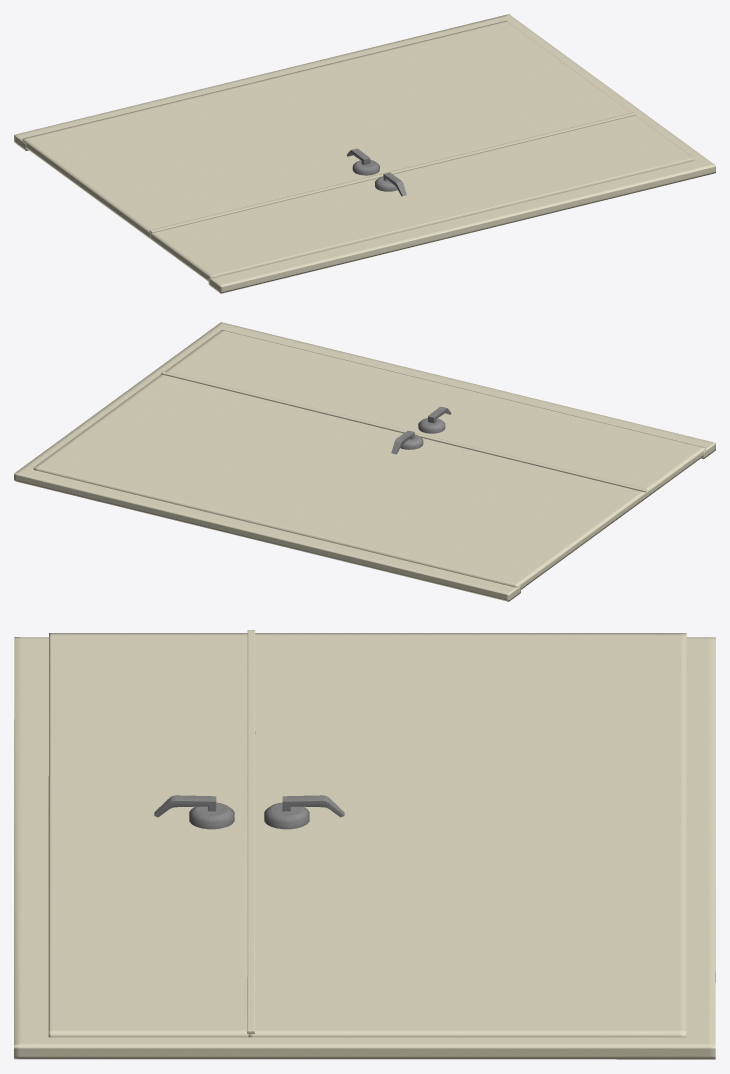
The model's file is SM_101_Door_7_1.fbx.
The picture shows the model from 3 angles, top to bottom: view 1: azimuth 30°, elevation 25°; view 2: azimuth 150°, elevation 25°; view 3: azimuth 270°, elevation 25°; orthographic projection. The views are drawn at different scales.
Parts seen in each view (by area): view 1: SM_101_Door_7_1; view 2: SM_101_Door_7_1; view 3: SM_101_Door_7_1.
Boxes of the visible parts, x1=… form: SM_101_Door_7_1: x1=14, y1=14, x2=715, y2=293; SM_101_Door_7_1: x1=14, y1=322, x2=715, y2=601; SM_101_Door_7_1: x1=14, y1=630, x2=715, y2=1059.
Size of the model in its own units: 223 by 161 by 9.71.
Materials: 1 (1 with a texture image).
